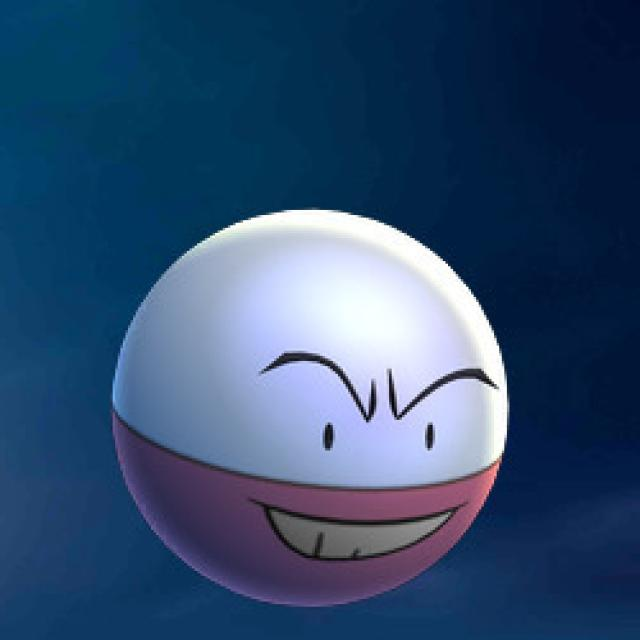Electrode: (110, 206, 511, 612)
